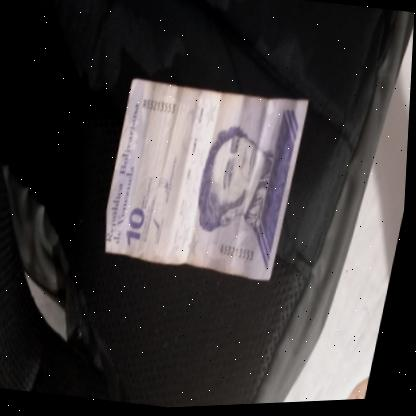ten-front-vef: (94, 72, 312, 291)
